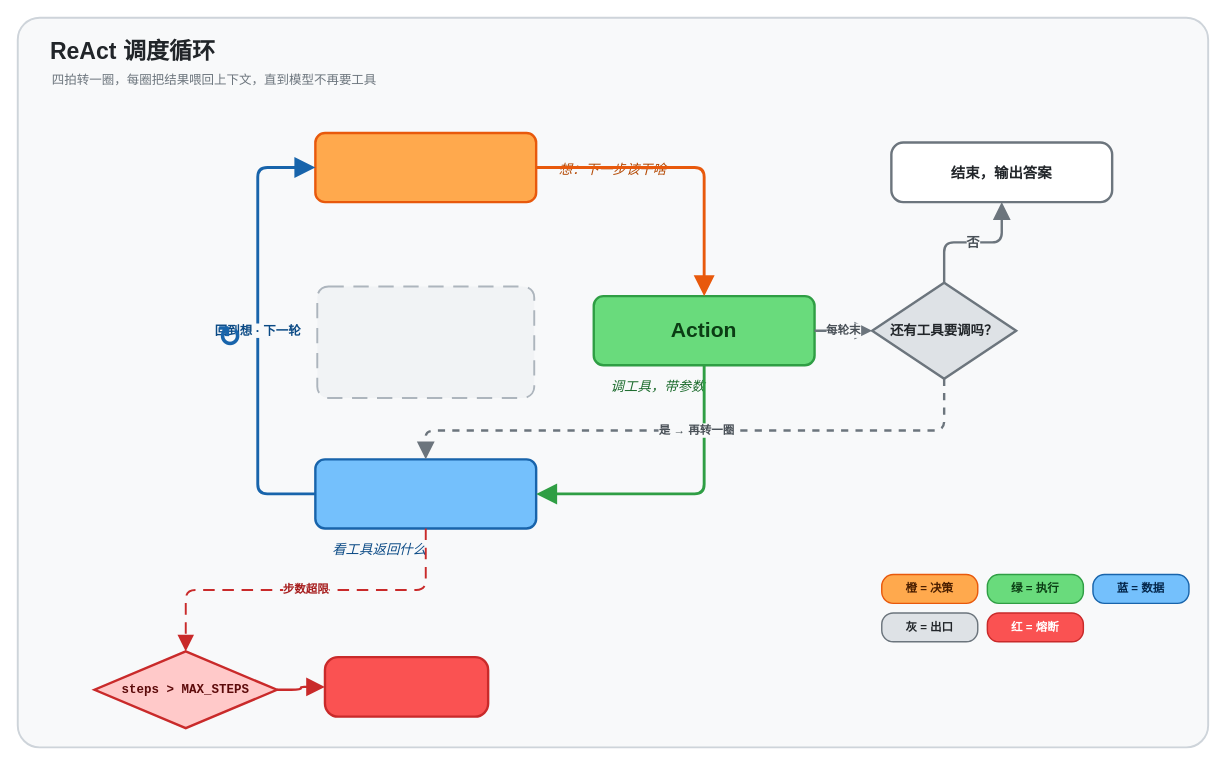
Image size: 1225x764. Some labels were removed from this diagram. The centre of each missing label's shape, as x and y in pixels:
Observation: the point at 425,493
Thought: the point at 425,167
强制中断: the point at 406,686
每步结果都 append 进 messages 下一轮就靠它做判断: the point at 425,341
